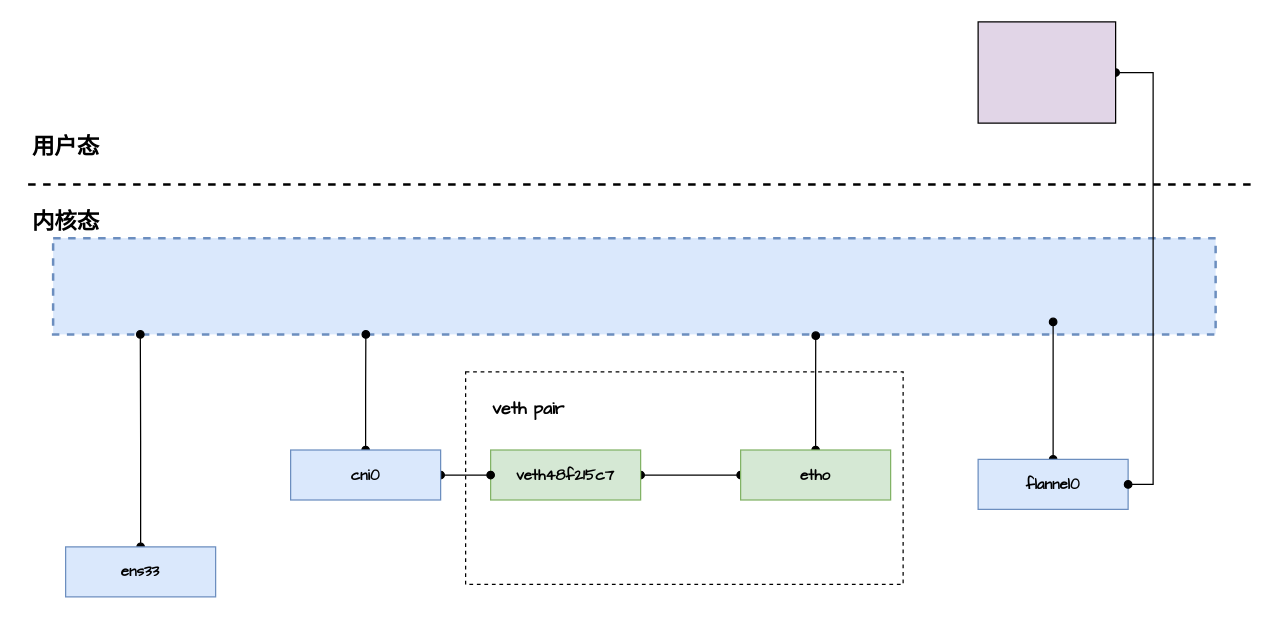
The diagram is 1276 pixels wide and 619 high, and some of its shapes have lost their labels. The shapes that lost their labels are listed below. From the top down, each one's centre as x and y in pixels, then its label:
the point at 1046,72: flanneld
the point at 633,285: 网络协议栈
